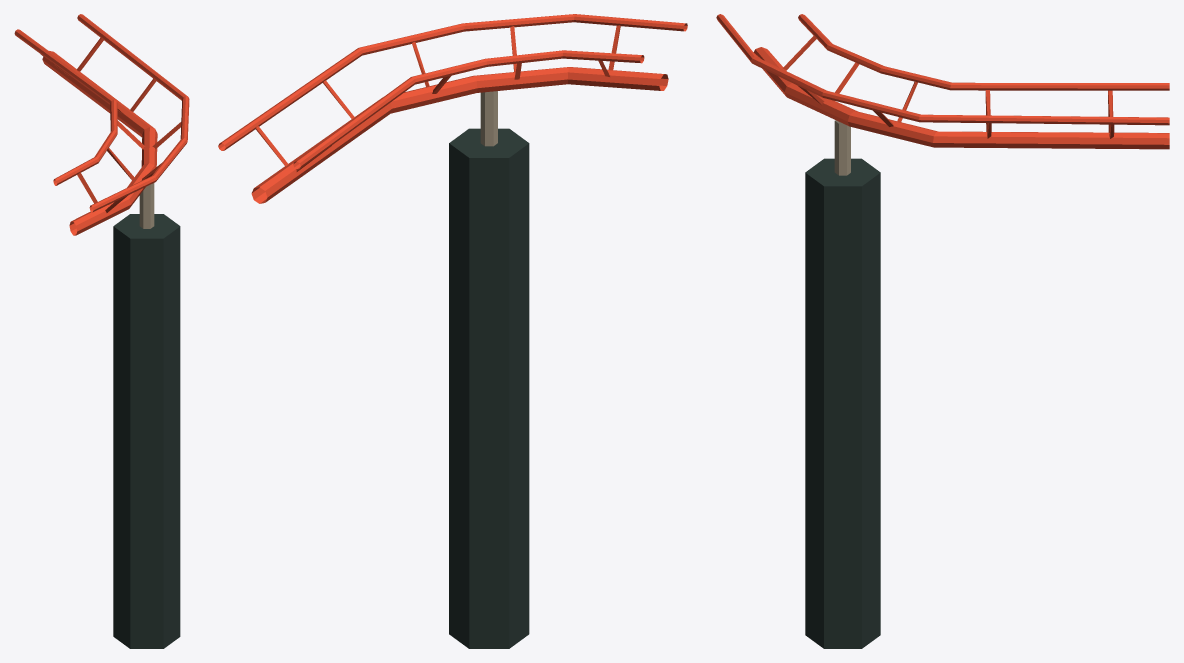
Rendered from RollerCoaster_A_Left.fbx.
3 renders of one model, left to right at view 1: azimuth 30°, elevation 25°; view 2: azimuth 150°, elevation 25°; view 3: azimuth 270°, elevation 25°, orthographic. The views are drawn at different scales.
Visible parts, largest first — view 1: RollerCoaster_A_L; view 2: RollerCoaster_A_L; view 3: RollerCoaster_A_L.
Part boxes in pixels (x1,y1,x2,y2): RollerCoaster_A_L: (14,14,189,648); RollerCoaster_A_L: (218,14,687,648); RollerCoaster_A_L: (716,14,1169,648).
Size of the model in its own units: 122 by 303 by 222.
